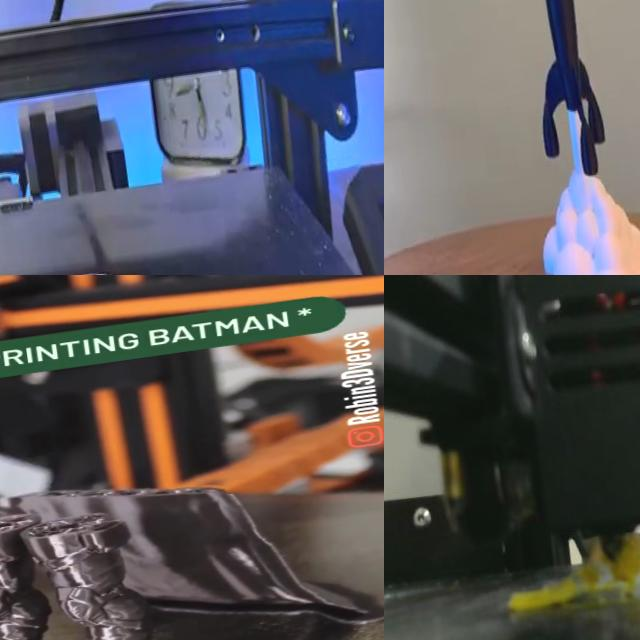spaghetti: (508, 534, 640, 613)
